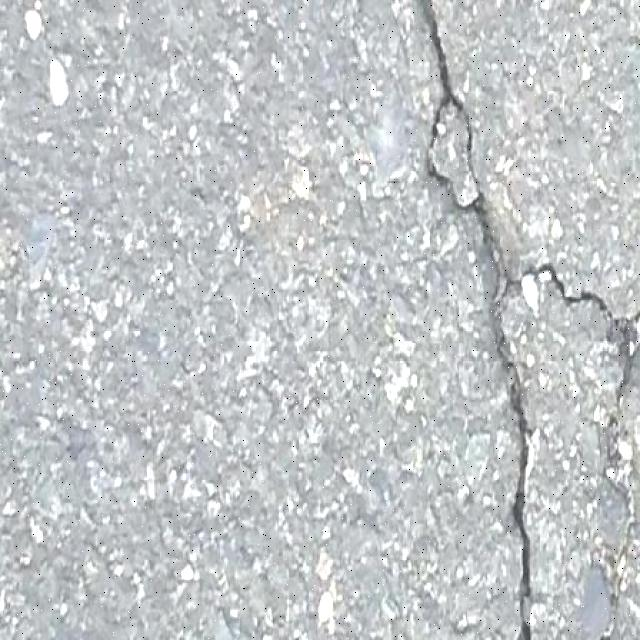Crack: (421, 0, 640, 640)
